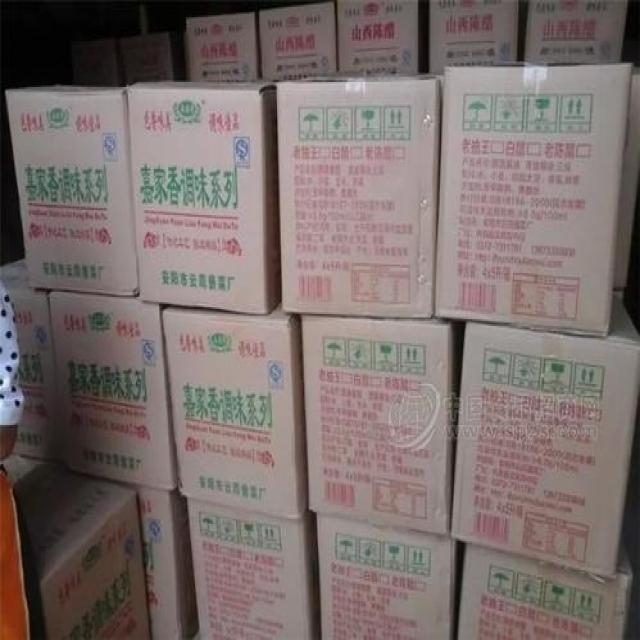Carton: (4, 89, 264, 490), (441, 67, 632, 329), (303, 323, 446, 638), (453, 329, 637, 573), (273, 75, 439, 316), (162, 311, 301, 517), (185, 500, 310, 638), (458, 543, 626, 638)
